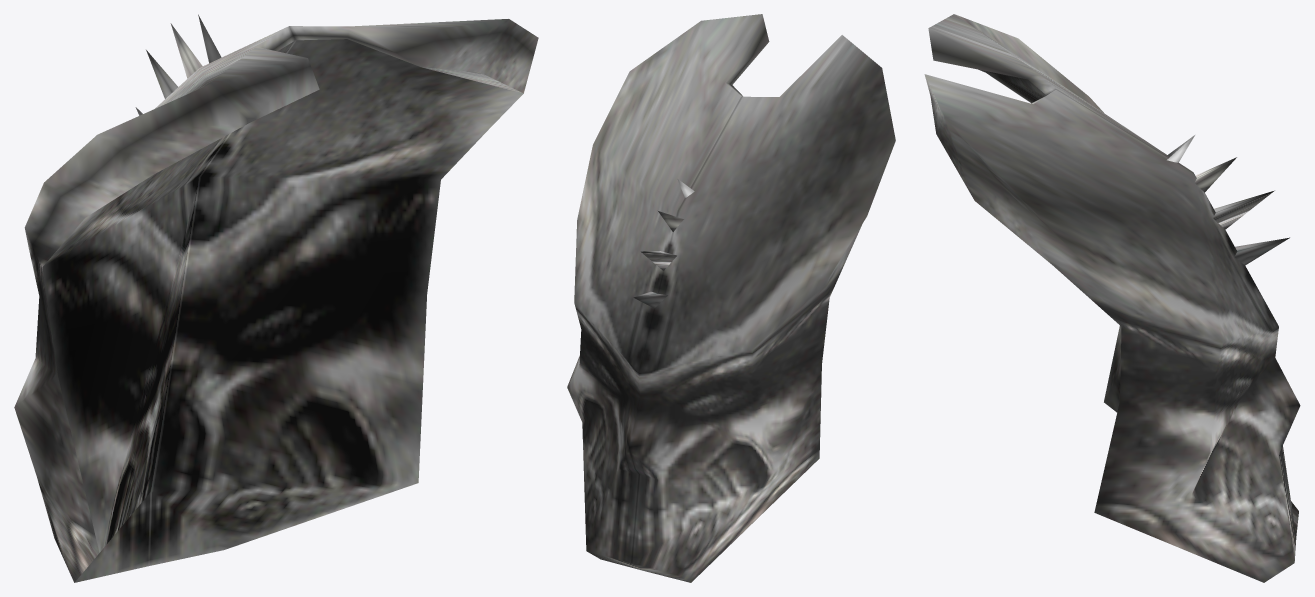
File: icon.ico.obj
3 renders of one model, left to right at view 1: azimuth 30°, elevation 25°; view 2: azimuth 150°, elevation 25°; view 3: azimuth 270°, elevation 25°, orthographic. The views are drawn at different scales.
Bounding box in the file's own units: 3.12 × 4.68 × 3.17.
Materials: 1 (1 with a texture image).
